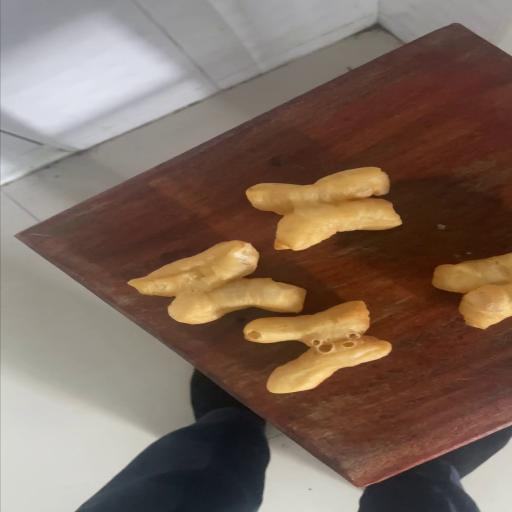street_golden_defect: (126, 242, 308, 324), (244, 302, 391, 393)
street_golden_good: (246, 168, 402, 249), (432, 252, 512, 328)
